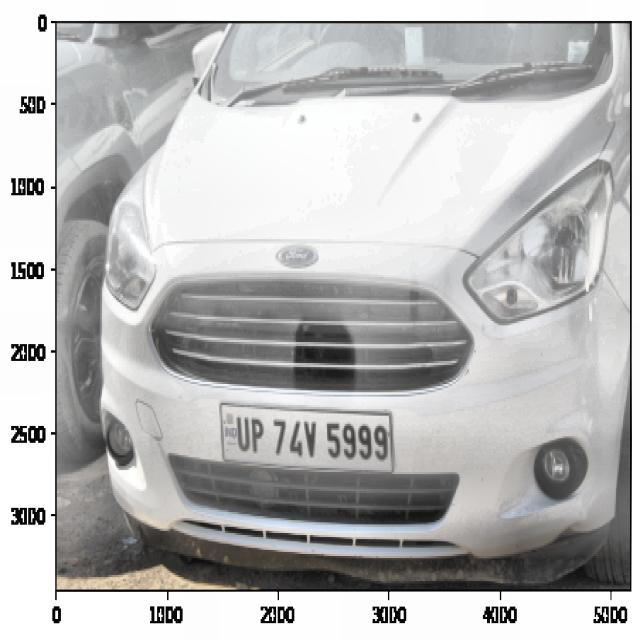license_plate: (230, 411, 393, 472)
